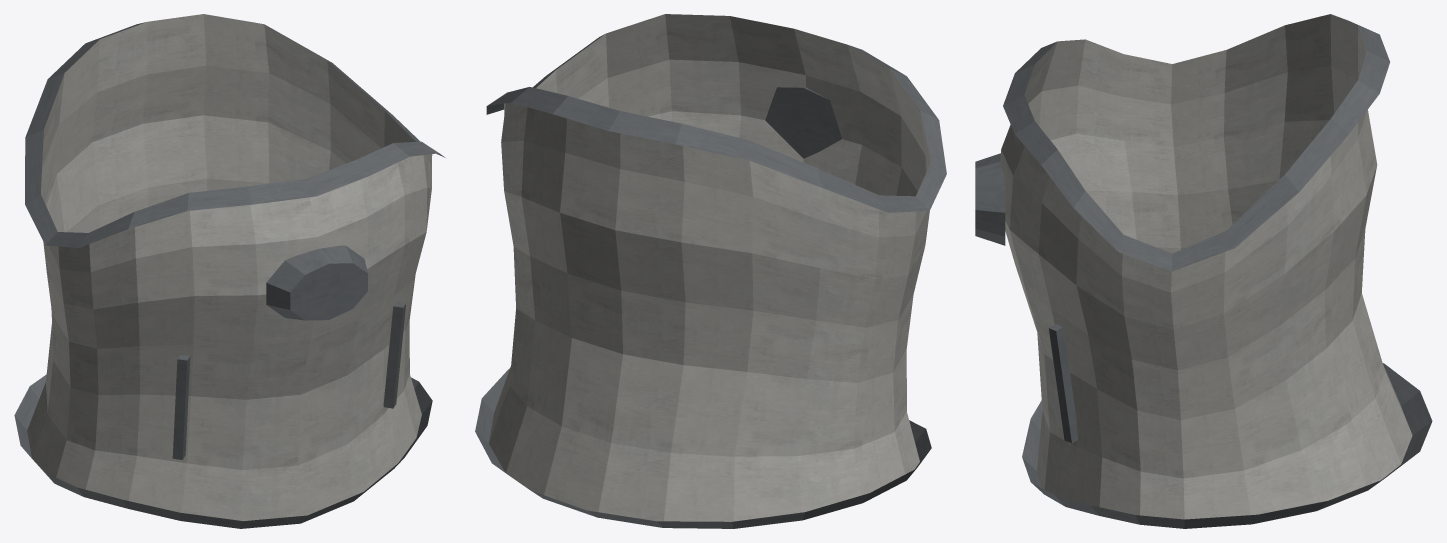
Rendered from eq_future_1_chest.glb.
The picture shows the model from 3 angles, left to right: view 1: azimuth 30°, elevation 25°; view 2: azimuth 150°, elevation 25°; view 3: azimuth 270°, elevation 25°; orthographic projection. The views are drawn at different scales.
Parts seen in each view (by area): view 1: eq_future_1_chest; view 2: eq_future_1_chest; view 3: eq_future_1_chest.
Boxes of the visible parts, bbox=[...] form: eq_future_1_chest: bbox=[14, 14, 445, 528]; eq_future_1_chest: bbox=[475, 14, 946, 528]; eq_future_1_chest: bbox=[975, 14, 1432, 528].
Size of the model in its own units: 0.4261 by 0.4118 by 0.4058.
2 materials, 2 textured.
